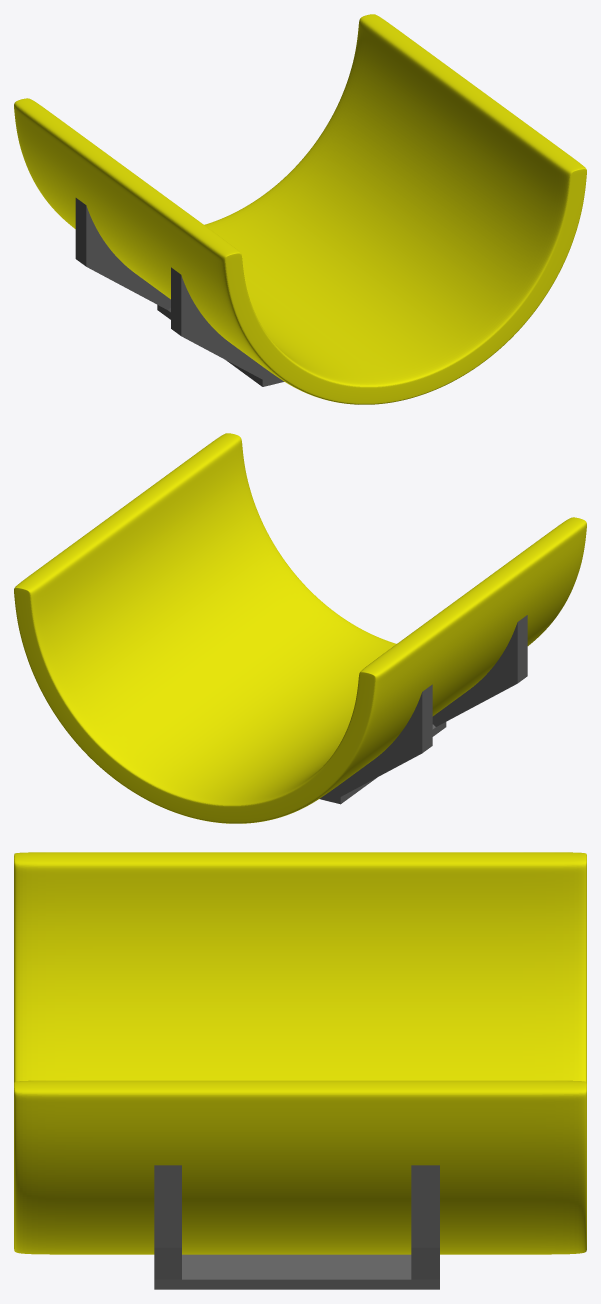
File: pipe support.fbx
The picture shows the model from 3 angles, top to bottom: view 1: azimuth 30°, elevation 25°; view 2: azimuth 150°, elevation 25°; view 3: azimuth 270°, elevation 25°; orthographic projection. The views are drawn at different scales.
Visible parts, largest first — view 1: pipe, block; view 2: pipe, block; view 3: pipe, block.
Part boxes in pixels (<box>): pipe: <box>14,14,586,404</box>; block: <box>75,198,284,386</box>; pipe: <box>14,433,586,823</box>; block: <box>319,615,527,804</box>; pipe: <box>14,852,586,1254</box>; block: <box>154,1165,439,1289</box>.
Size of the model in its own units: 99.64 by 49.87 by 99.9.
